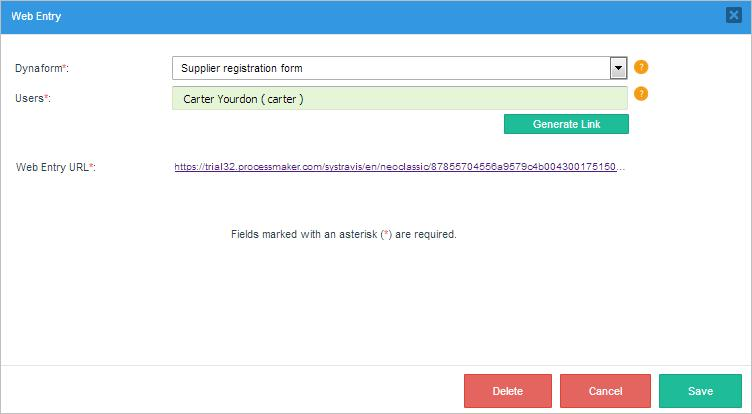button: (451, 367, 557, 410), (556, 367, 655, 411), (653, 368, 745, 411), (499, 113, 636, 139)
dropdown: (165, 52, 633, 82)
textbox: (166, 85, 629, 112)
